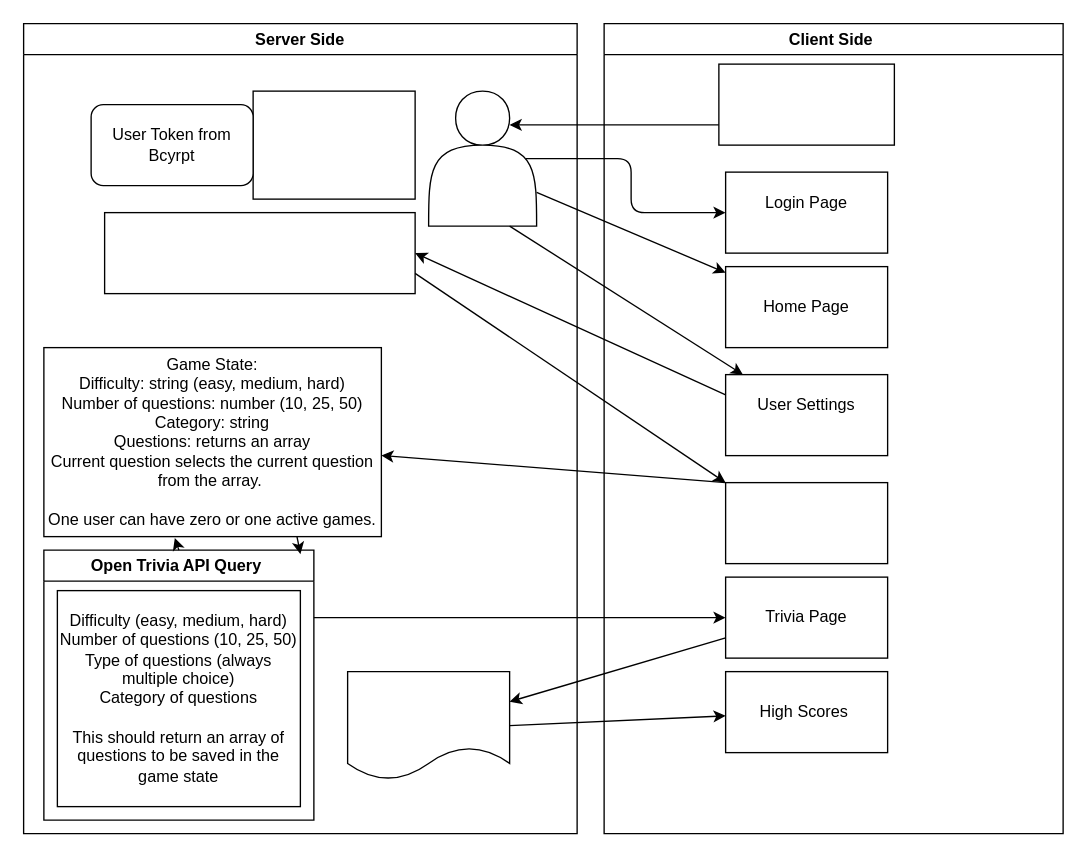
The diagram is 1087 pixels wide and 857 high, and some of its shapes have lost their labels. Each missing label, with the centre of its shape:
Game Setup Page: (x=806, y=522)
High scores for the user: (x=428, y=725)
Sign up Page: (x=806, y=104)
User information: ID: String username: string Password: string: (x=333, y=144)
User preferred settings: Dark or light mode difficulty level: (x=259, y=252)
